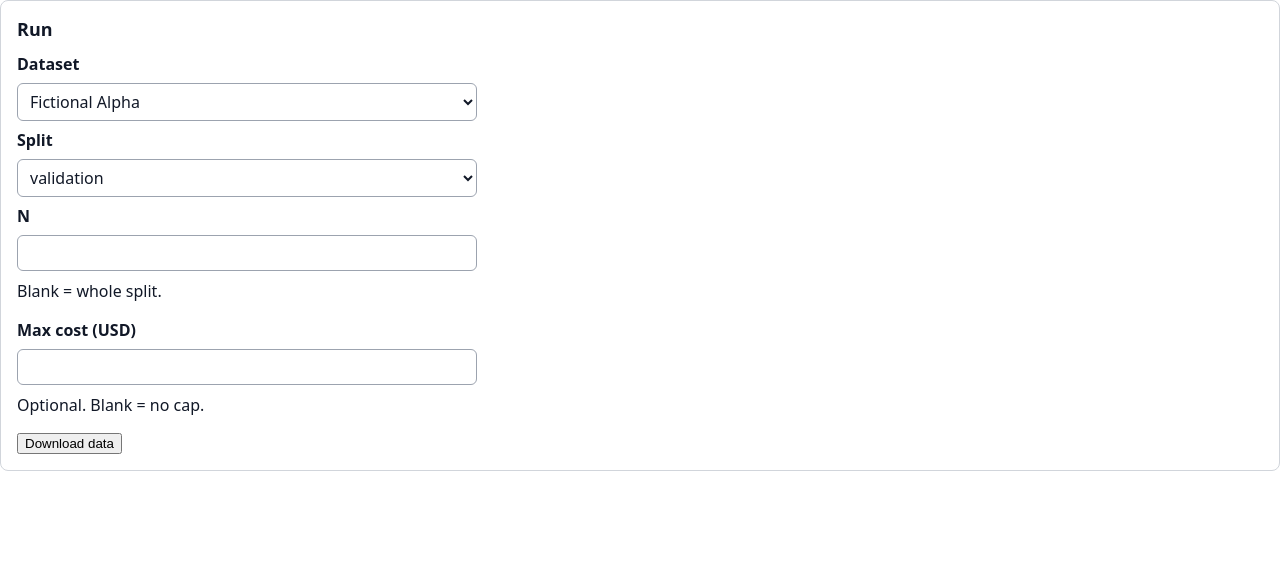
Test: retry after a failed download shows downloading, not the old failure
Click the button "Download data". click: (69, 444)
box: [17,433,122,454]
Wait 1000 ms
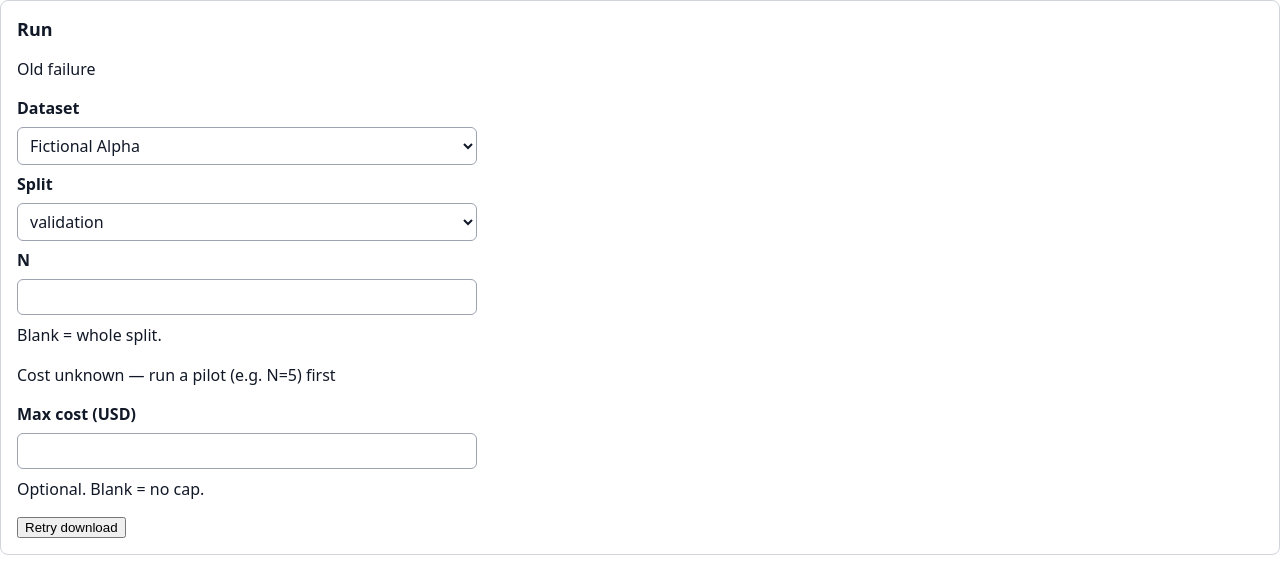
Result: the text "Old failure" is shown at [17,58,96,80]
Click the button "Retry download". click: (71, 528)
box: [17,517,126,538]
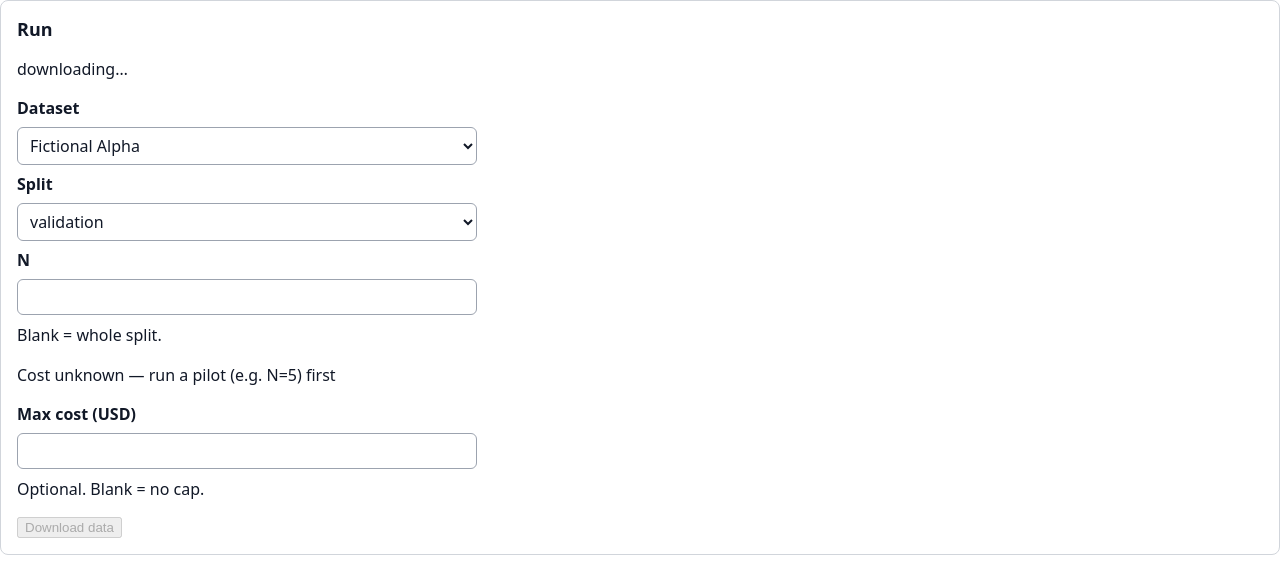
Result: the text "Old failure" is gone
Result: the text "downloading…" is shown at [17,58,128,80]
